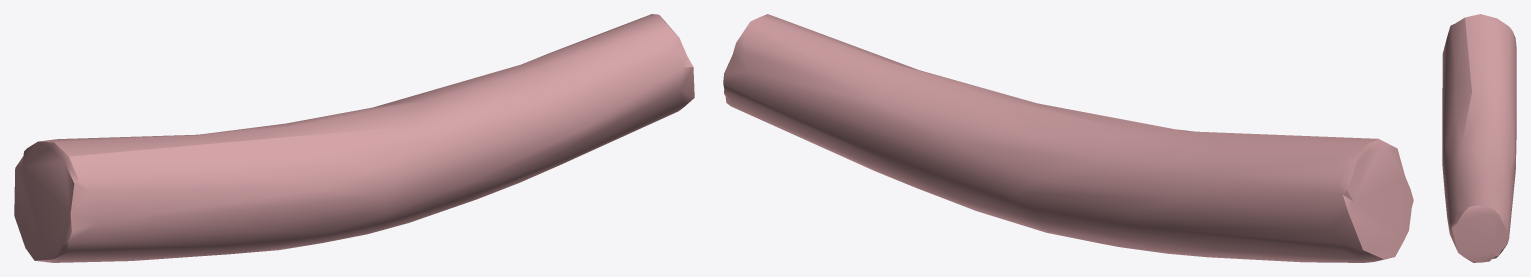
Rendered from fma68212_fj6545.glb.
3 renders of one model, left to right at view 1: azimuth 30°, elevation 25°; view 2: azimuth 150°, elevation 25°; view 3: azimuth 270°, elevation 25°, orthographic. The views are drawn at different scales.
Visible parts, largest first — view 1: FMA68212_FJ6545; view 2: FMA68212_FJ6545; view 3: FMA68212_FJ6545.
Boxes of the visible parts, left/top/right/bottom form: FMA68212_FJ6545: left=14, top=14, right=694, bottom=262; FMA68212_FJ6545: left=723, top=14, right=1413, bottom=262; FMA68212_FJ6545: left=1442, top=14, right=1516, bottom=262.
Bounding box in the file's own units: 0.015 × 0.00353 × 0.00248.
